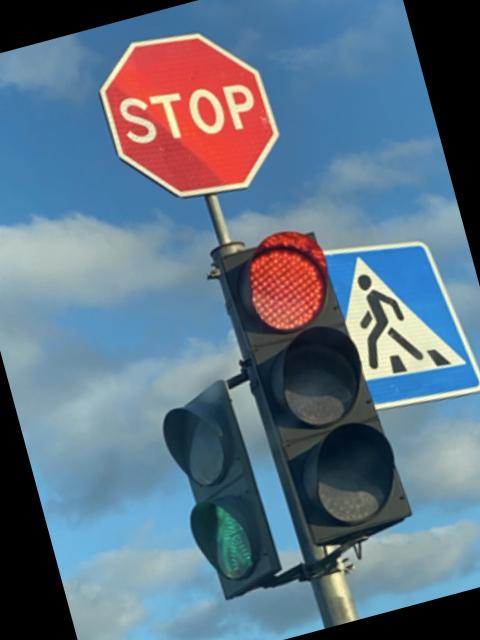crosswalk-sign: (320, 217, 480, 423)
